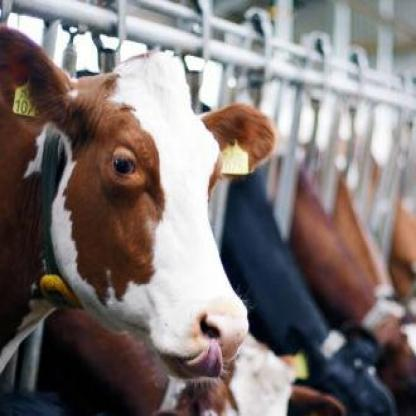cow: (2, 28, 272, 381), (199, 101, 397, 413), (272, 152, 415, 416), (29, 308, 290, 416)
